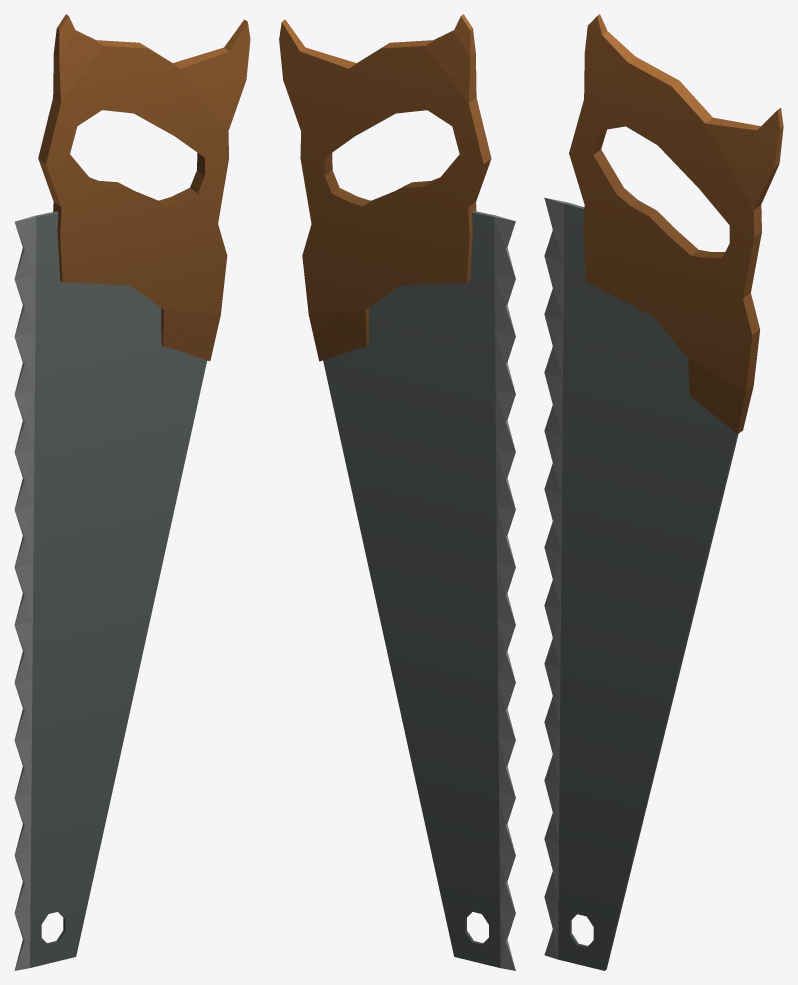
The model's file is Tool_Saw_01.obj.
3 renders of one model, left to right at view 1: azimuth 30°, elevation 25°; view 2: azimuth 150°, elevation 25°; view 3: azimuth 330°, elevation 25°, orthographic.
Visible parts, largest first — view 1: Tool_Saw_01; view 2: Tool_Saw_01; view 3: Tool_Saw_01.
Part boxes in pixels (x1=…): Tool_Saw_01: x1=14, y1=14, x2=250, y2=970; Tool_Saw_01: x1=279, y1=14, x2=515, y2=970; Tool_Saw_01: x1=544, y1=14, x2=783, y2=970.
Bounding box in the file's own units: 0.1416 × 0.5437 × 0.00819.
Materials: 1 (1 with a texture image).
